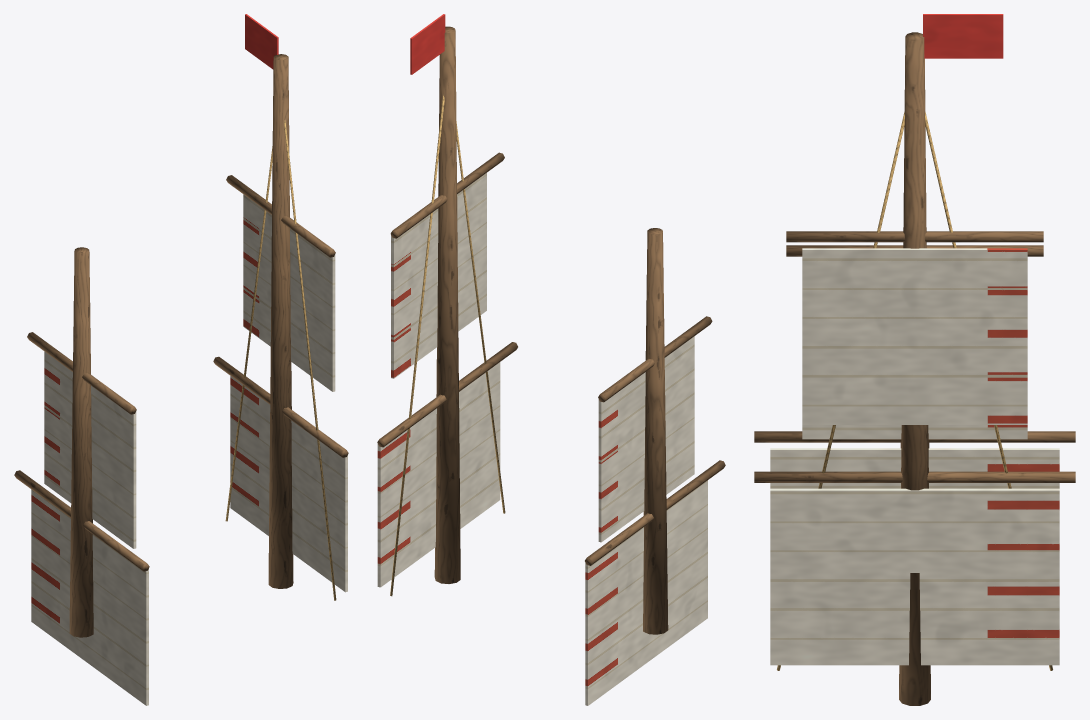
File: albatros_mast.glb
3 renders of one model, left to right at view 1: azimuth 30°, elevation 25°; view 2: azimuth 150°, elevation 25°; view 3: azimuth 270°, elevation 25°, orthographic. The views are drawn at different scales.
Parts seen in each view (by area): view 1: Mast; view 2: Mast; view 3: Mast.
Part boxes in pixels (<box>): Mast: <box>14,14,348,705</box>; Mast: <box>377,14,725,705</box>; Mast: <box>754,14,1075,705</box>.
Bounding box in the file's own units: 3.98 × 9.98 × 4.
1 material, 1 textured.
